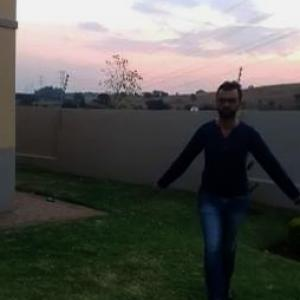land: (143, 55, 299, 299)
